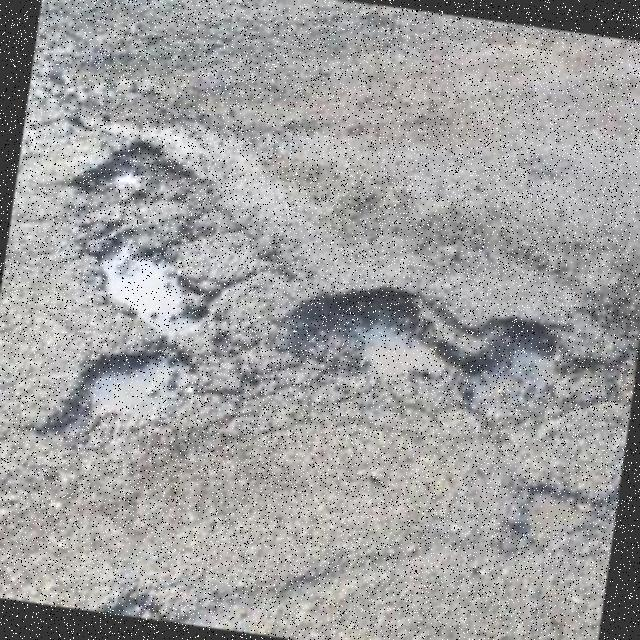Pothole: (43, 142, 224, 434), (274, 287, 589, 420)
